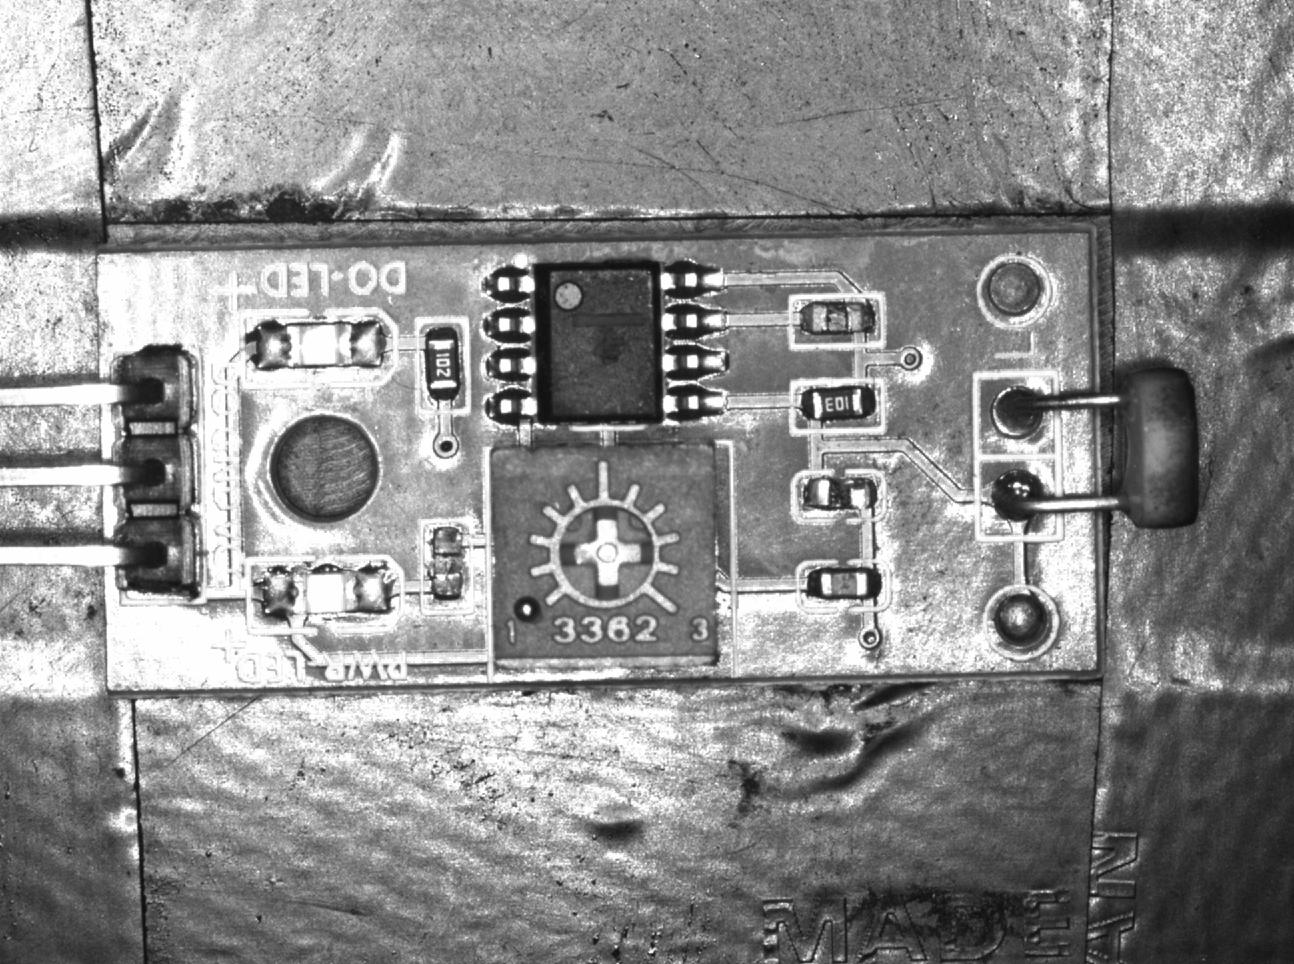miss: (794, 468, 886, 529), (791, 291, 886, 345), (421, 523, 471, 610)
ok: (416, 313, 469, 415), (789, 383, 889, 435), (799, 560, 890, 611)
